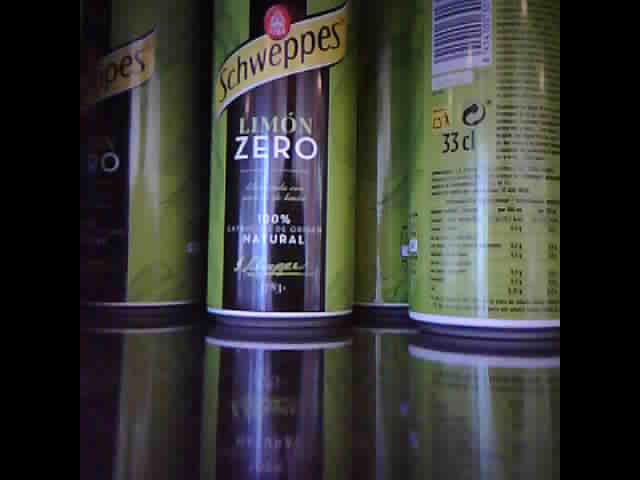schweppes: (200, 1, 360, 330), (404, 7, 563, 330), (91, 5, 199, 317), (355, 3, 409, 312)
